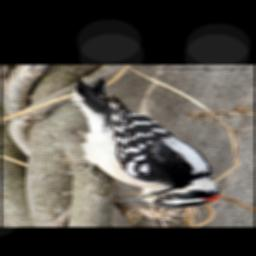Woodpecker: (67, 78, 220, 208)
